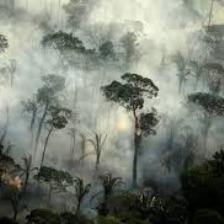incendio: (1, 19, 213, 172)
